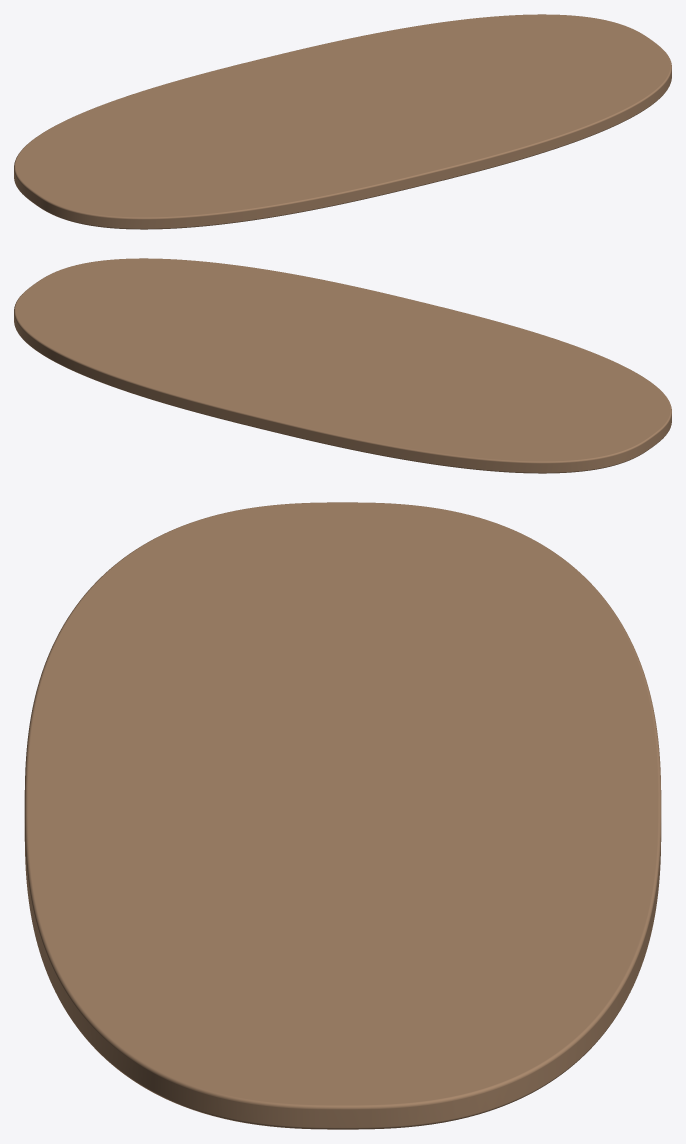
Rendered from Top_Superellipse.glb.
The picture shows the model from 3 angles, top to bottom: view 1: azimuth 30°, elevation 25°; view 2: azimuth 150°, elevation 25°; view 3: azimuth 270°, elevation 25°; orthographic projection. The views are drawn at different scales.
Parts seen in each view (by area): view 1: Top_Superellipse; view 2: Top_Superellipse; view 3: Top_Superellipse.
Boxes of the visible parts, x1=… form: Top_Superellipse: x1=14, y1=14, x2=671, y2=229; Top_Superellipse: x1=14, y1=258, x2=671, y2=473; Top_Superellipse: x1=24, y1=502, x2=661, y2=1129.
Size of the model in its own units: 1.37 by 0.0254 by 0.6096.
